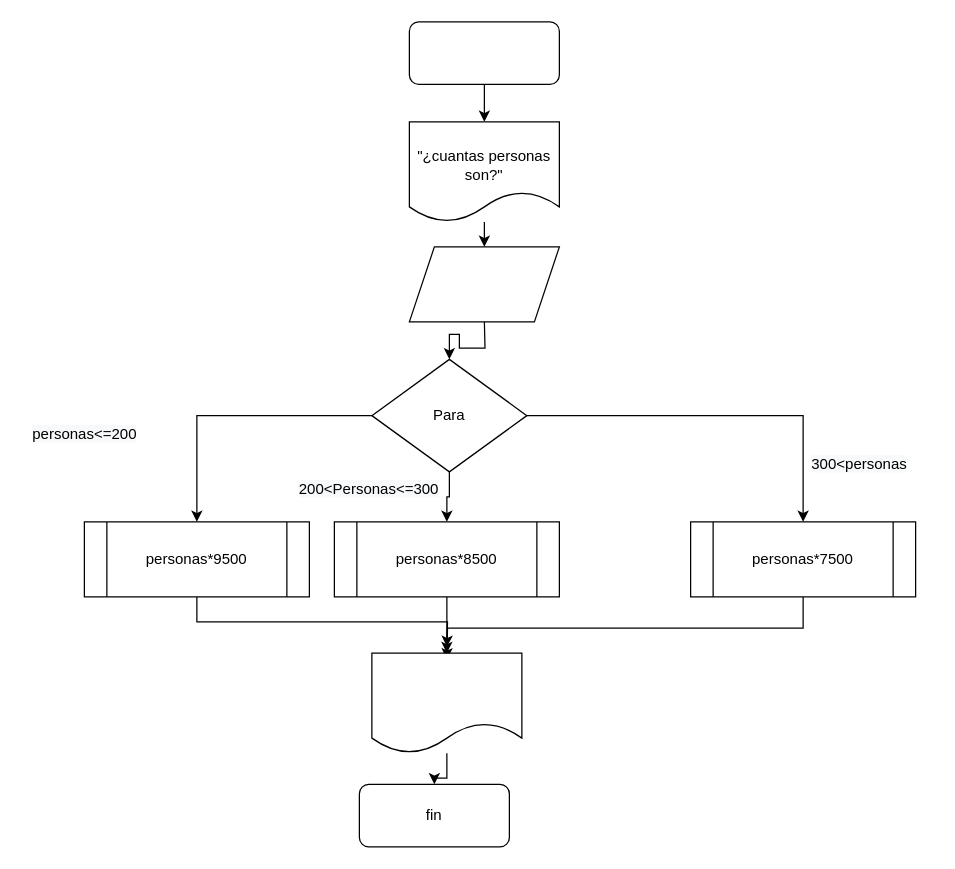
Image size: 955x869. Some labels were removed from this diagram. The centre of each missing label's shape, as x and y in pixels:
el costo total es de" personas: pixel 446 702
Inicio: pixel 483 52
personas: pixel 483 284
